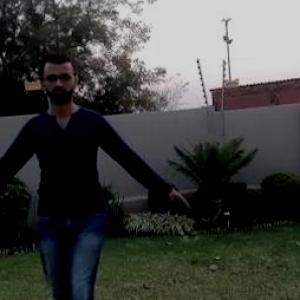land: (1, 66, 164, 299)
